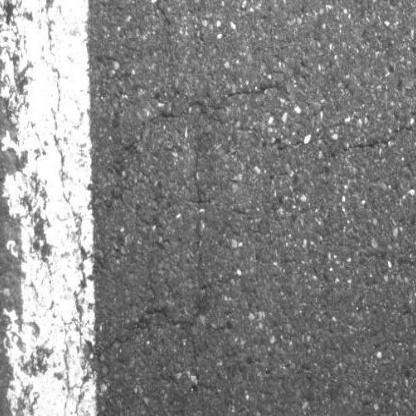Cracks: (122, 80, 291, 154), (94, 304, 203, 368), (151, 0, 175, 28)
